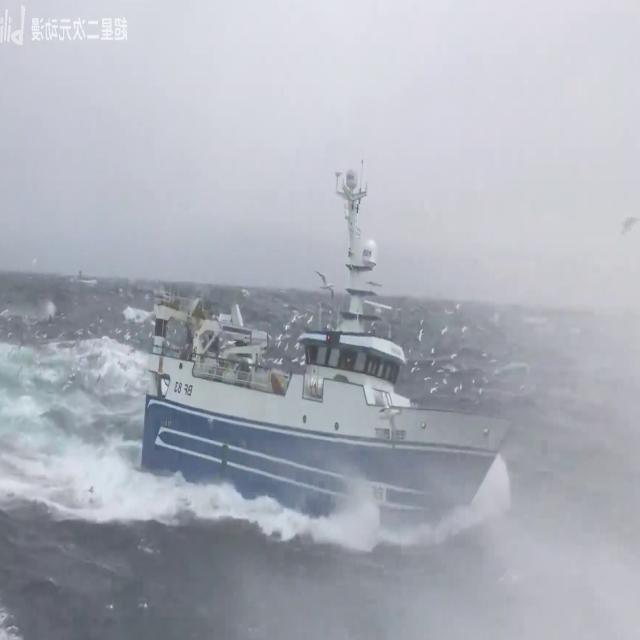houseboat: (140, 165, 519, 512)
